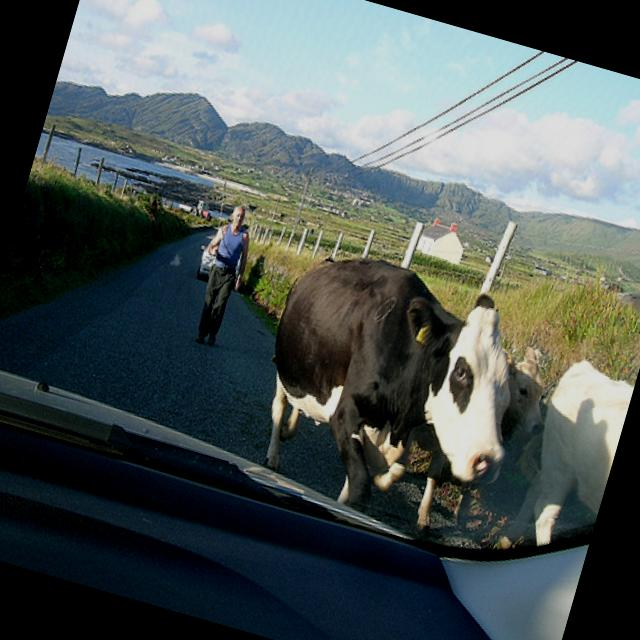Vehicle: (0, 339, 597, 640), (191, 235, 219, 281)
